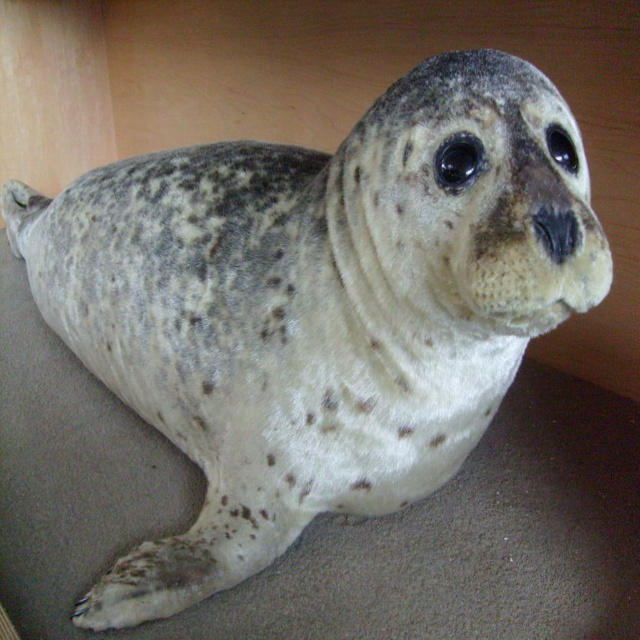Sea lion: (0, 47, 612, 633)
